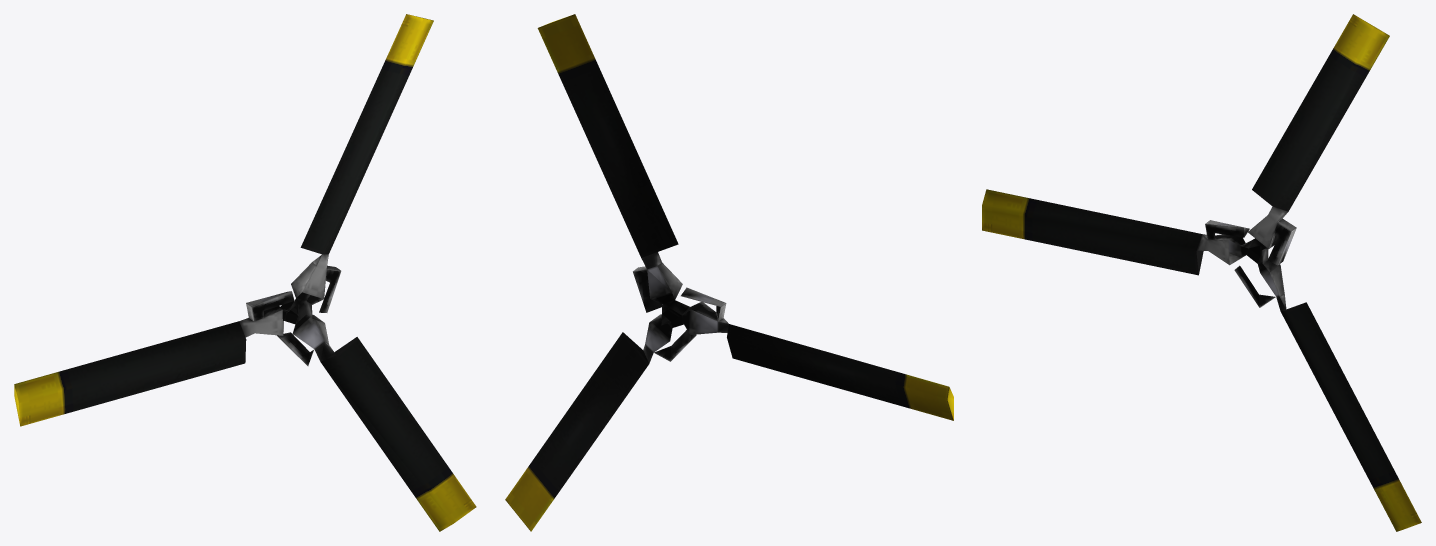
Rendered from backBlade7.obj.
The picture shows the model from 3 angles, left to right: view 1: azimuth 30°, elevation 25°; view 2: azimuth 150°, elevation 25°; view 3: azimuth 330°, elevation 25°; orthographic projection. The views are drawn at different scales.
Visible parts, largest first — view 1: Null_glass.005_Body; view 2: Null_glass.005_Body; view 3: Null_glass.005_Body.
Boxes of the visible parts, x1,y1,x2,y2 form: Null_glass.005_Body: [14, 14, 476, 531]; Null_glass.005_Body: [505, 14, 953, 531]; Null_glass.005_Body: [982, 14, 1421, 531].
Size of the model in its own units: 1.32 by 1.47 by 0.0838.
Materials: 1 (1 with a texture image).
